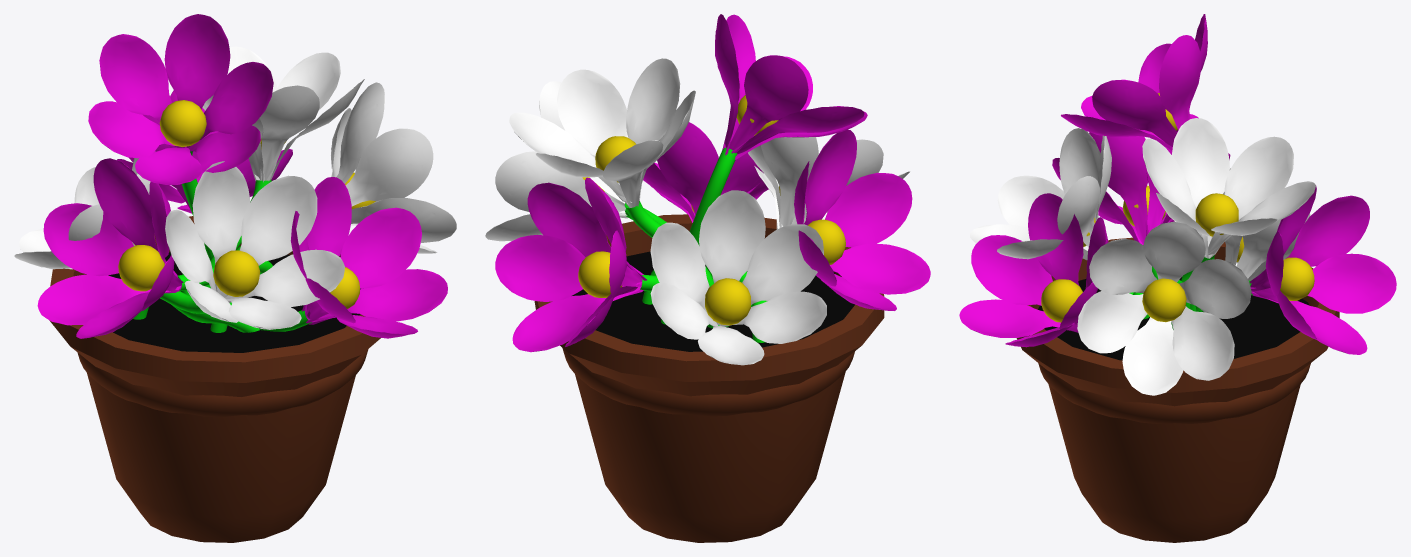
Rendered from kwiatek_kolor.fbx.
The picture shows the model from 3 angles, left to right: view 1: azimuth 30°, elevation 25°; view 2: azimuth 150°, elevation 25°; view 3: azimuth 270°, elevation 25°; orthographic projection. The views are drawn at different scales.
Parts seen in each view (by area): view 1: Cylinder; view 2: Cylinder; view 3: Cylinder.
Boxes of the visible parts, x1,y1,x2,y2 form: Cylinder: (14, 14, 456, 542); Cylinder: (485, 14, 930, 542); Cylinder: (959, 14, 1396, 542).
Size of the model in its own units: 530 by 658 by 560.
